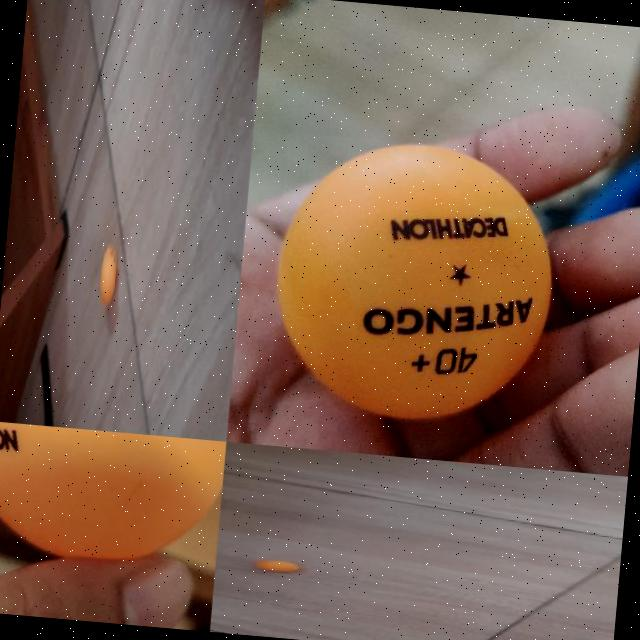ping-pong-ball: (264, 132, 562, 432), (0, 420, 225, 571), (97, 243, 118, 310), (256, 558, 298, 572)
